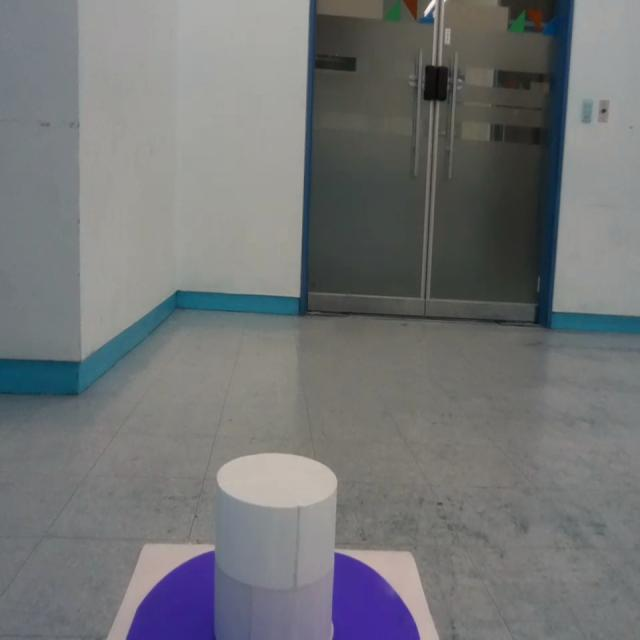cylinder: (213, 452, 339, 640)
